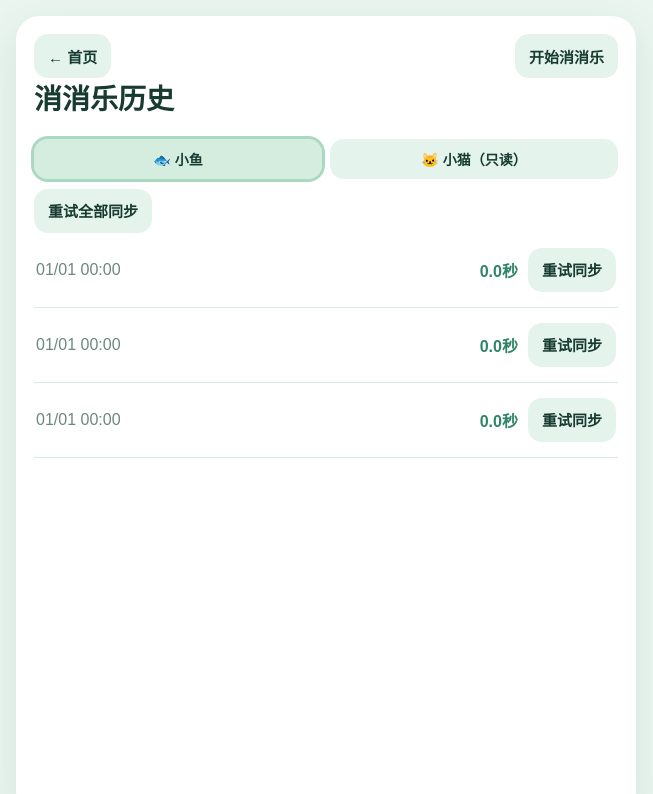
Test case: FractionPercentMatchHistory retry all › reports three genuine successes
Click the button "重试全部同步" at coordinates (93, 211), box [34, 189, 152, 233]
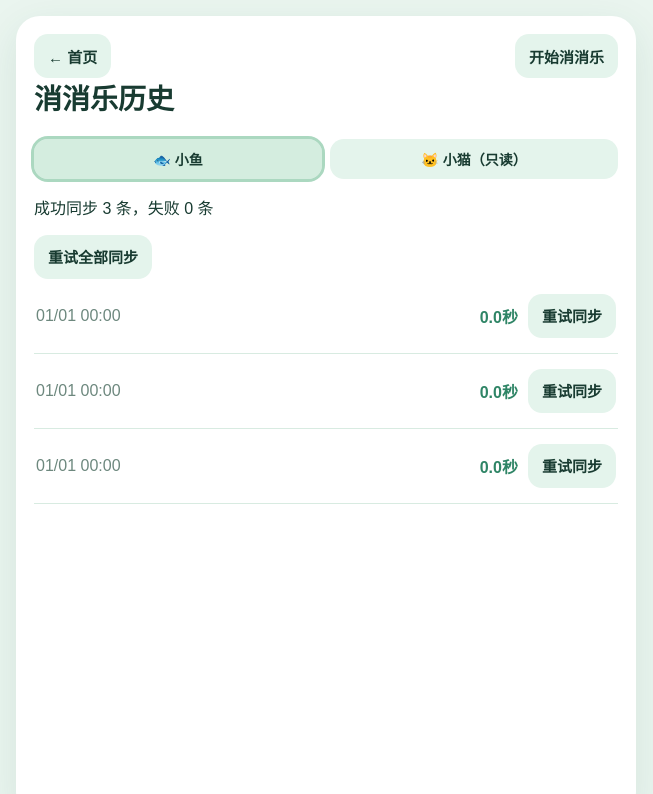
Result: the text "成功同步 3 条，失败 0 条" is shown at [34, 200, 214, 217]
